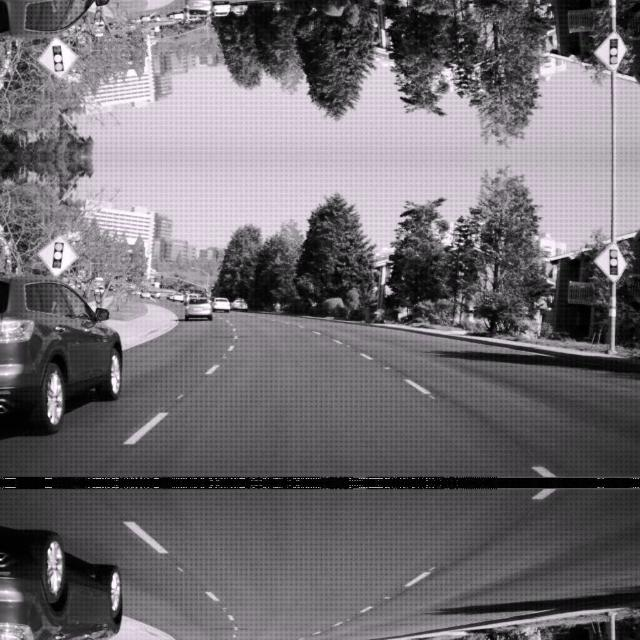signalAhead: (36, 232, 78, 276), (36, 36, 78, 80), (592, 240, 626, 282), (592, 30, 626, 72)
